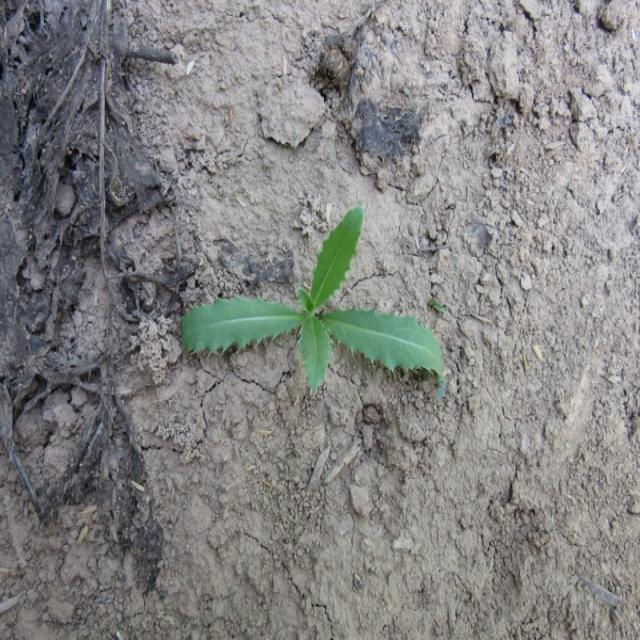field_thistle: (142, 228, 476, 435)
